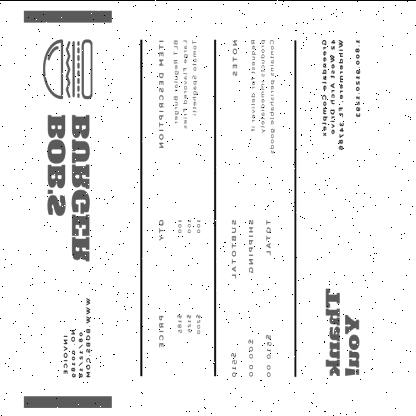Paragraph: (225, 212, 279, 382), (40, 109, 92, 265), (228, 34, 278, 158), (317, 33, 365, 154), (321, 282, 364, 380)
Table: (140, 36, 216, 376)
